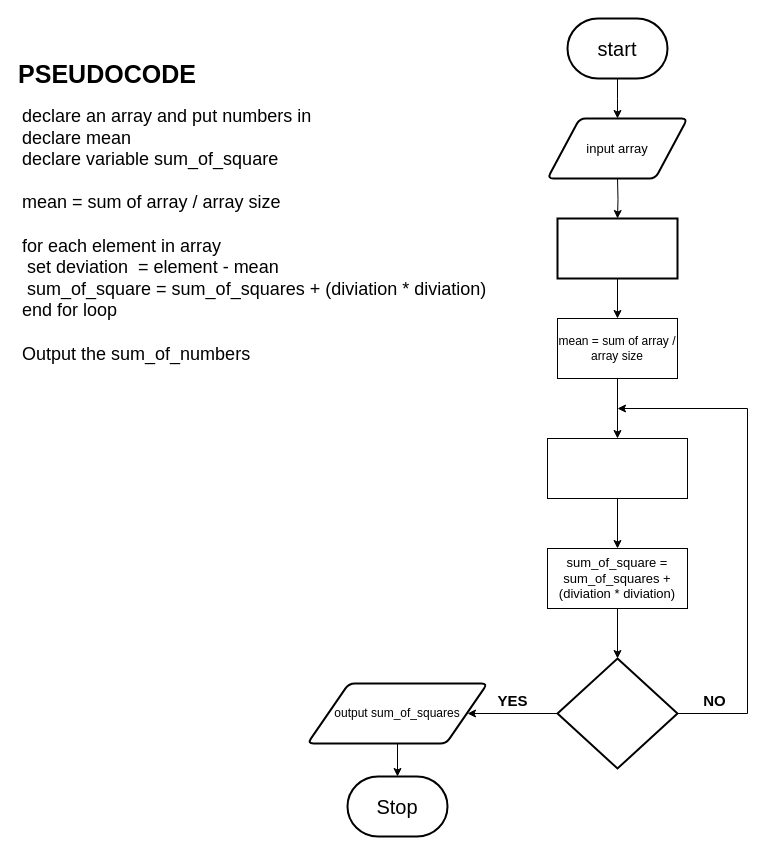
The diagram is 773 pixels wide and 854 high, and some of its shapes have lost their labels. Each missing label, with the centre of its shape:
declare mean = 0 declare sum_of_squares = 0: the point at 617,248
Last item: the point at 617,713
set diviation = element - mean: the point at 617,468
